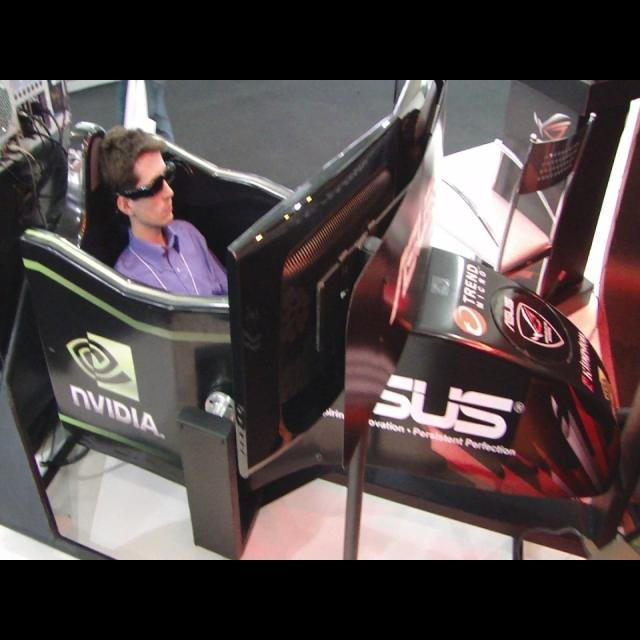nvidia: (67, 331, 141, 401)
